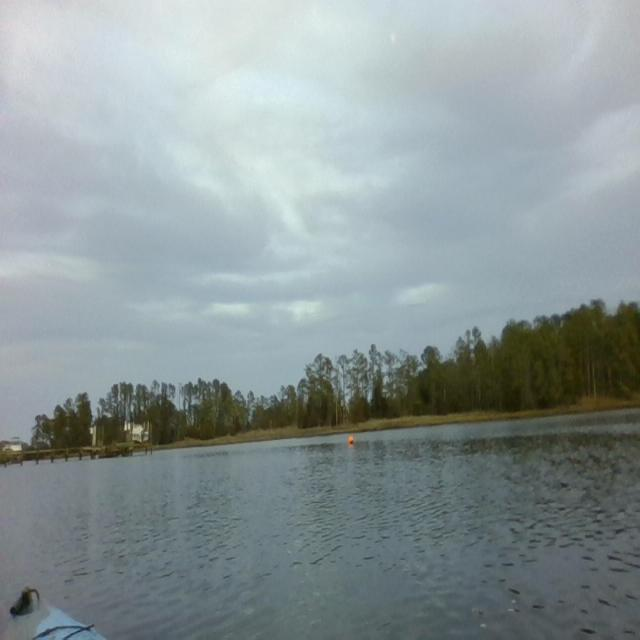Buoy: (346, 432, 356, 449)
